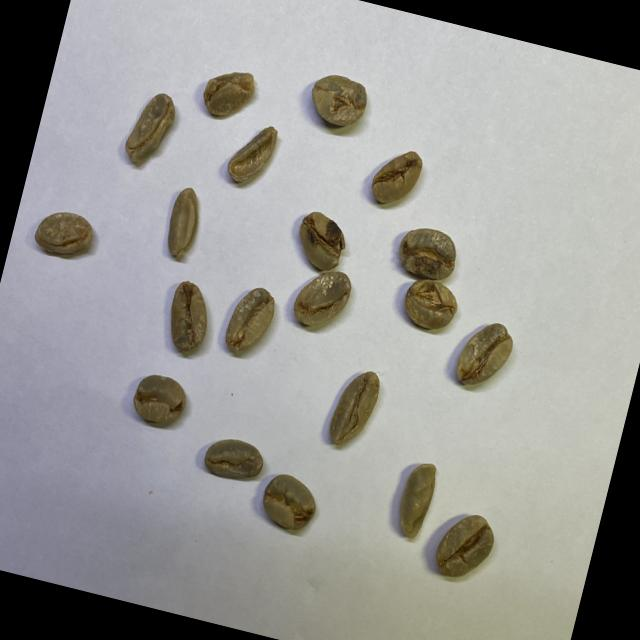bad: (428, 504, 502, 590), (322, 362, 386, 456), (450, 314, 519, 398), (119, 83, 183, 173), (286, 259, 356, 339), (157, 275, 220, 362), (390, 218, 464, 290), (286, 205, 355, 279), (219, 279, 280, 362), (254, 467, 325, 538), (300, 66, 372, 136), (27, 201, 101, 268), (363, 140, 428, 214), (390, 454, 444, 543), (396, 270, 466, 338), (222, 115, 283, 192), (126, 366, 195, 434), (158, 180, 210, 266), (197, 58, 260, 126), (198, 431, 268, 491)
